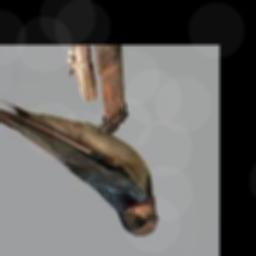Swallow: (0, 103, 159, 235)
